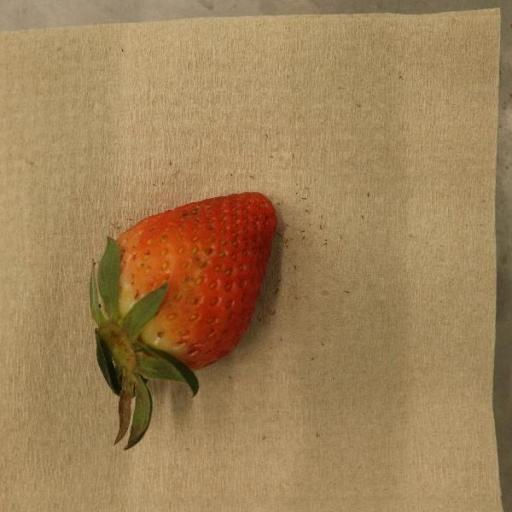Strawberry: (90, 193, 278, 451)
